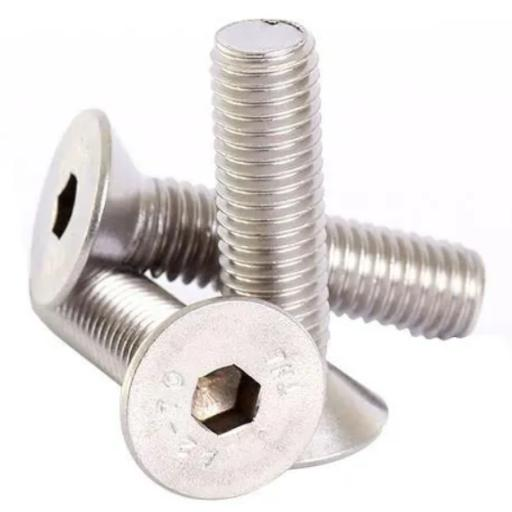Hex-Allen: (120, 297, 330, 500)
